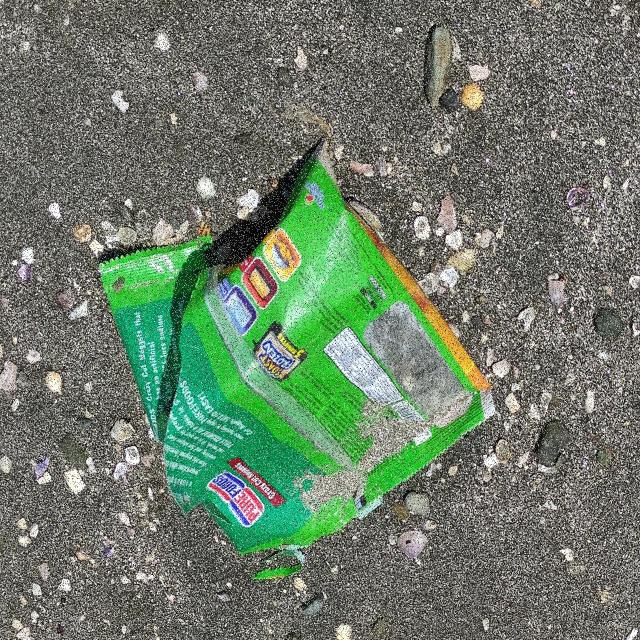plastic_waste: (97, 136, 499, 556)
